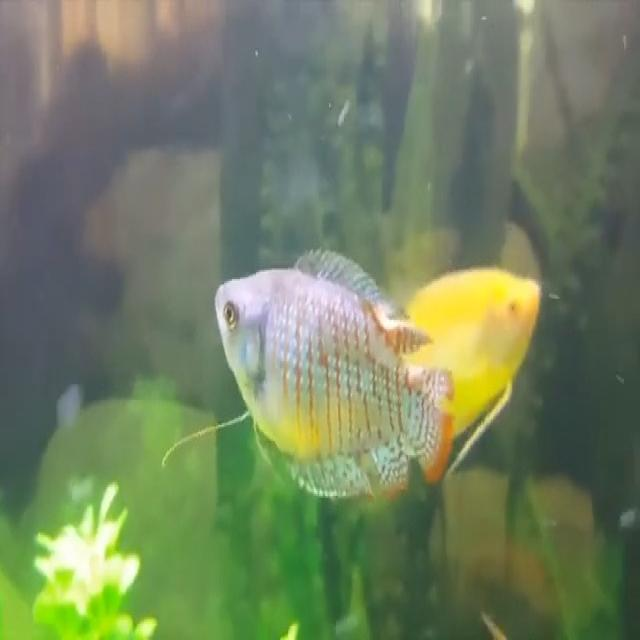fish: (210, 247, 456, 498), (399, 266, 540, 438)
